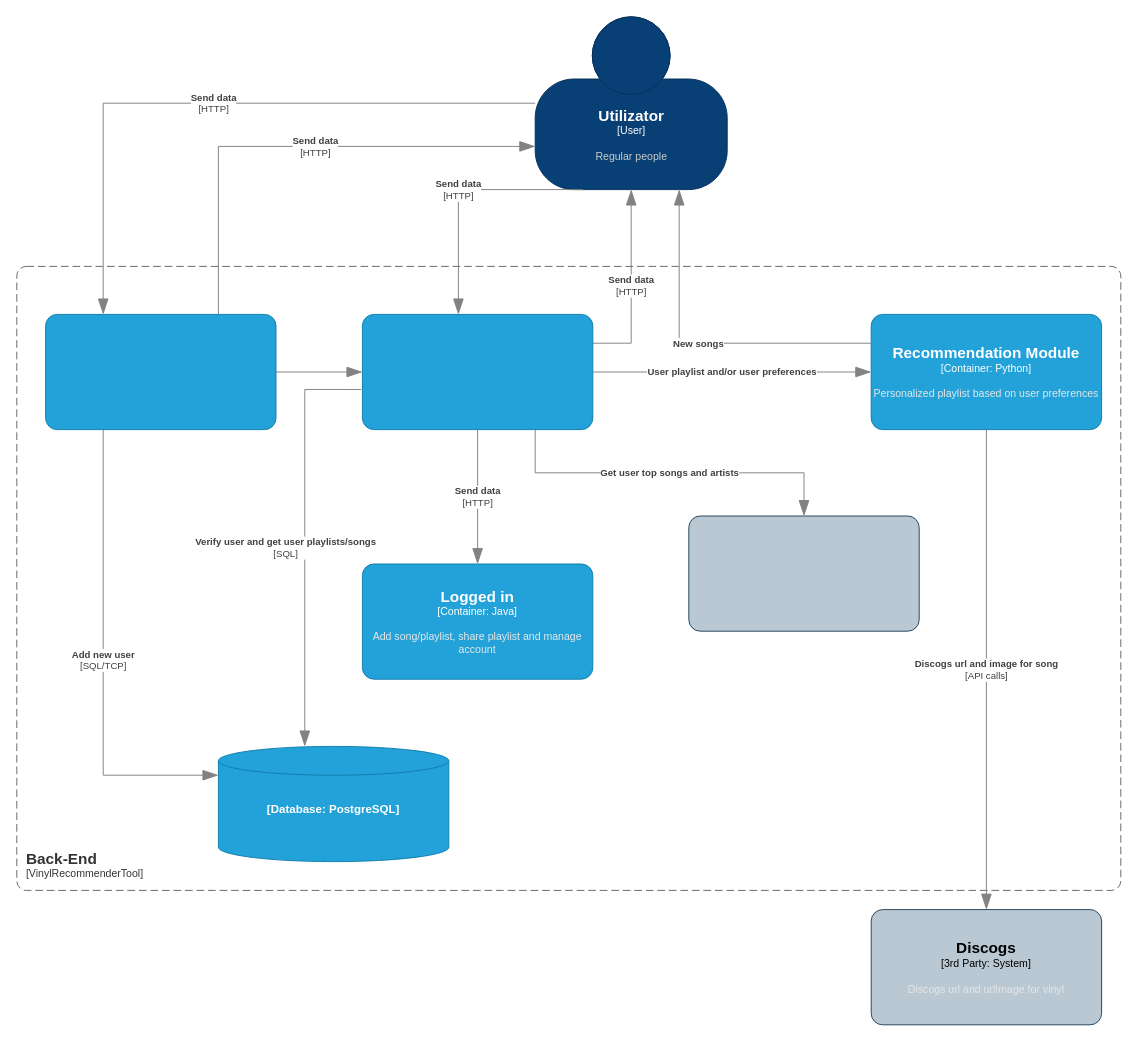
Some shapes in this 1138 by 1042 pixel diagram are drawn without their labels. Each missing label, with the centre of its shape:
"Login [Container: Java] Back-End" goes at point 477,371.
"Register [Container: Java] Register a user" goes at point 160,371.
"Spotify [3rd Party: System] Top songs and artists for user" goes at point 803,573.
